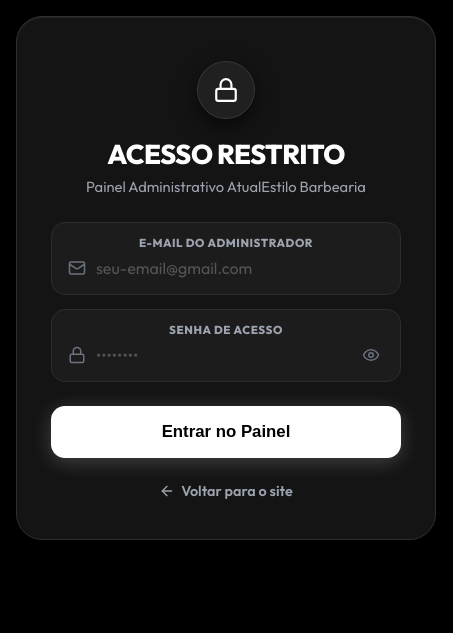
Test: Login Component Revamp (TDD) › deve exibir mensagem de erro se o login falhar
Type "schaidenunes.dev@gmail.com" into the field with placeholder "seu-email@gmail.com".
click(240, 268); type("schaidenunes.dev@gmail.com")  # box [96,254,384,282]
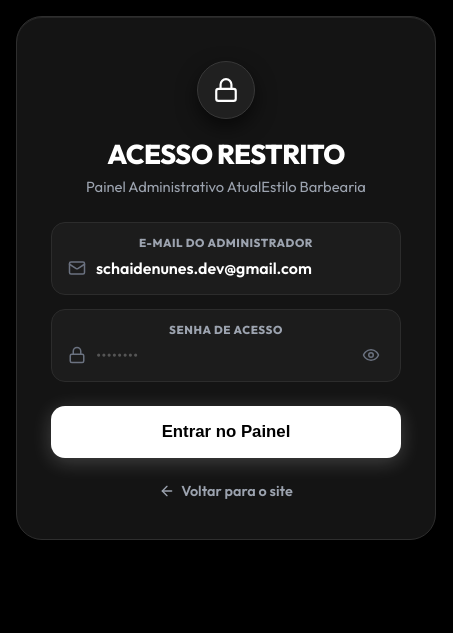
Type "senhaerrada" into the password field with placeholder "••••••••".
click(222, 355); type("senhaerrada")  # box [96,341,348,369]
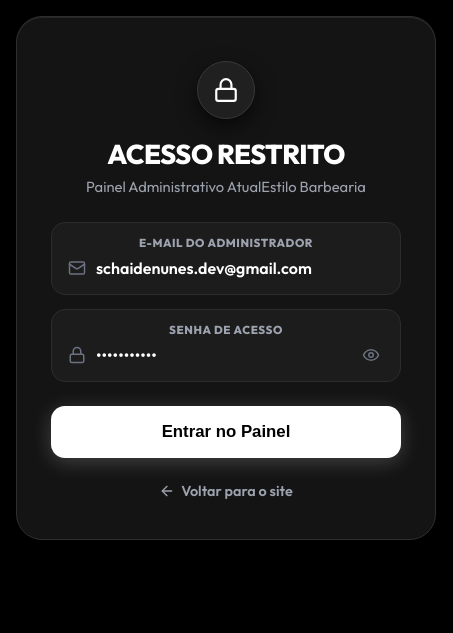
Click the button "Entrar no Painel".
click(226, 432)  # box [51,406,401,458]
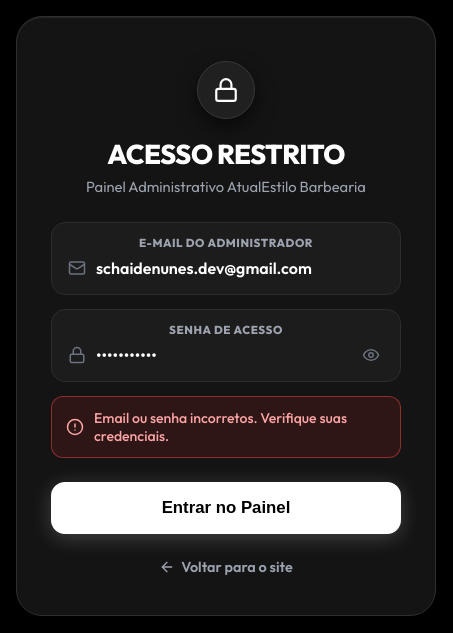
Result: the text "Email ou senha incorretos. Verifique suas credenciais." is shown at [94,409,386,445]
